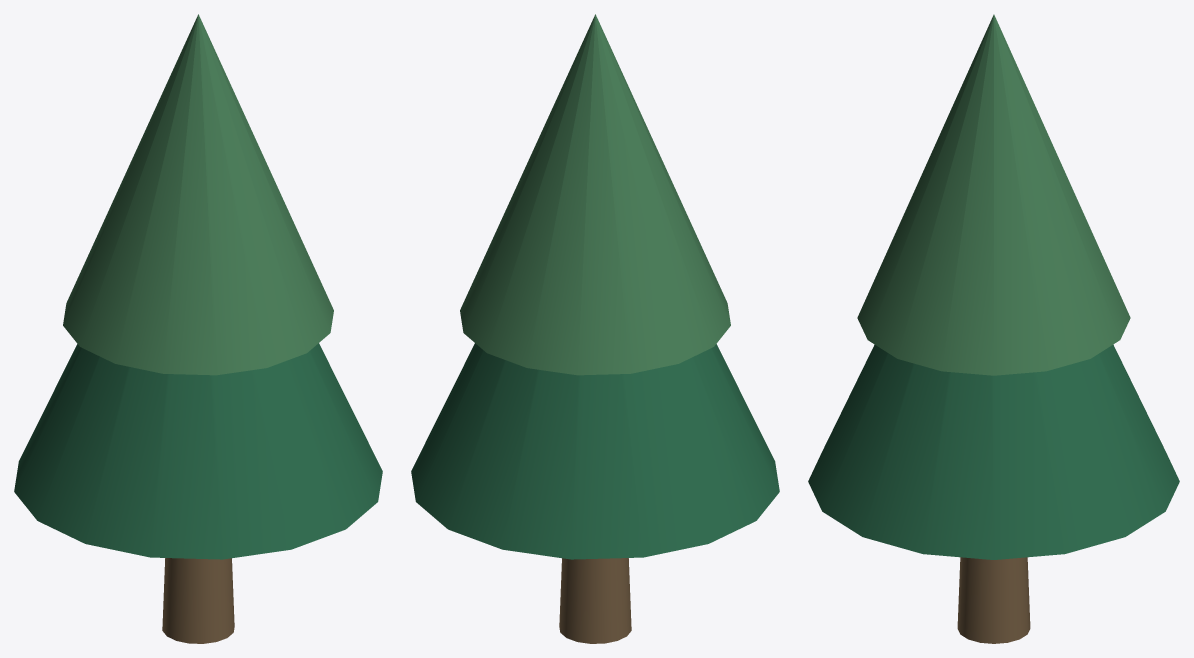
Rendered from pine.glb.
3 views of the same model, side by side, from view 1: azimuth 30°, elevation 25°; view 2: azimuth 150°, elevation 25°; view 3: azimuth 270°, elevation 25° (orthographic).
Visible parts, largest first — view 1: leaf-bottom, leaf-top, trunk; view 2: leaf-bottom, leaf-top, trunk; view 3: leaf-bottom, leaf-top, trunk.
Part boxes in pixels (box(x1,y1,x2,y2)): leaf-bottom: box(14, 343, 382, 559); leaf-top: box(63, 14, 333, 375); trunk: box(162, 558, 234, 643); leaf-bottom: box(411, 343, 779, 559); leaf-top: box(460, 14, 730, 375); trunk: box(559, 558, 631, 643); leaf-bottom: box(808, 344, 1179, 559); leaf-top: box(857, 14, 1130, 375); trunk: box(957, 557, 1030, 643).
Bounding box in the file's own units: 1.02 × 1.86 × 1.02.
